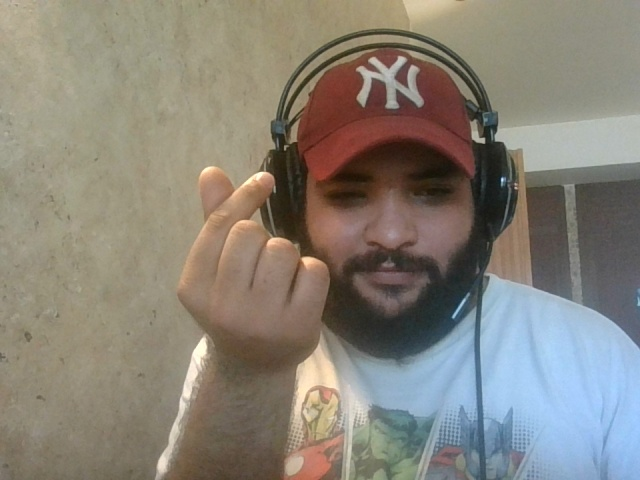iloveyou: (165, 150, 338, 371)
